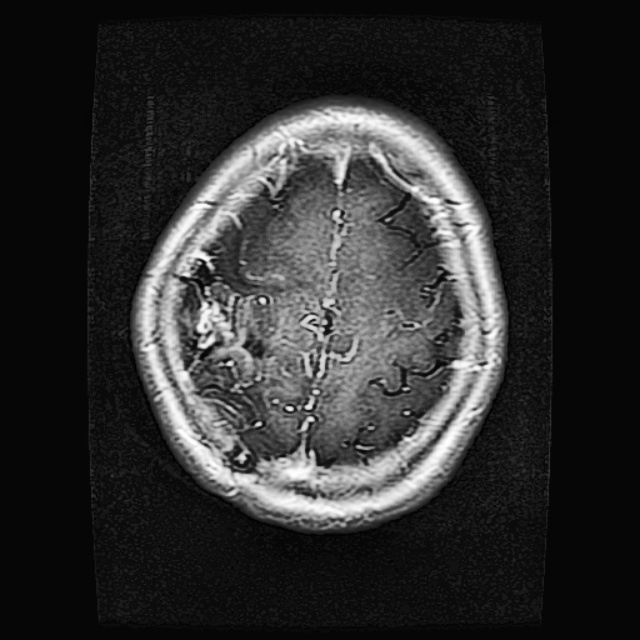Meningioma: (180, 274, 264, 432)
